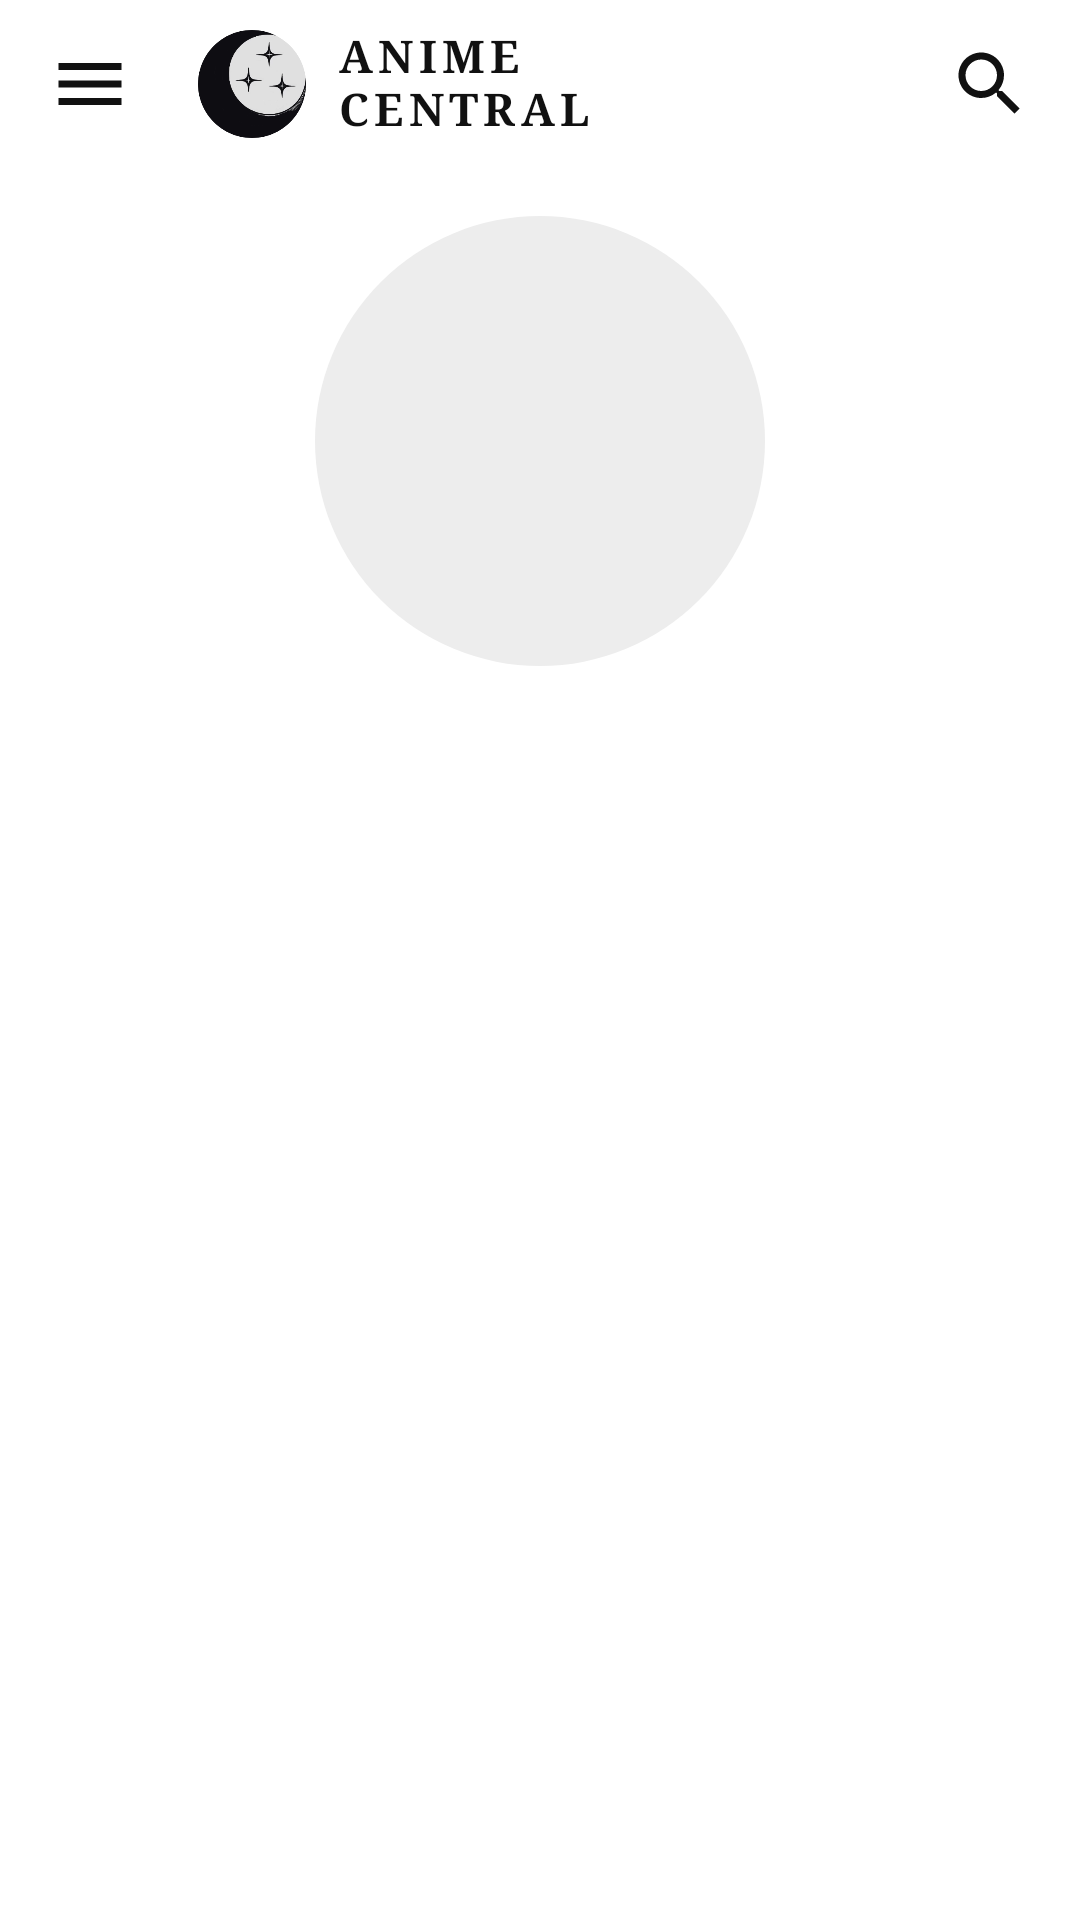

Icons on this 1080w x 1920h Android screen, each with the point to tap as (x,y):
Menu: (90,84)
Search: (989,83)
